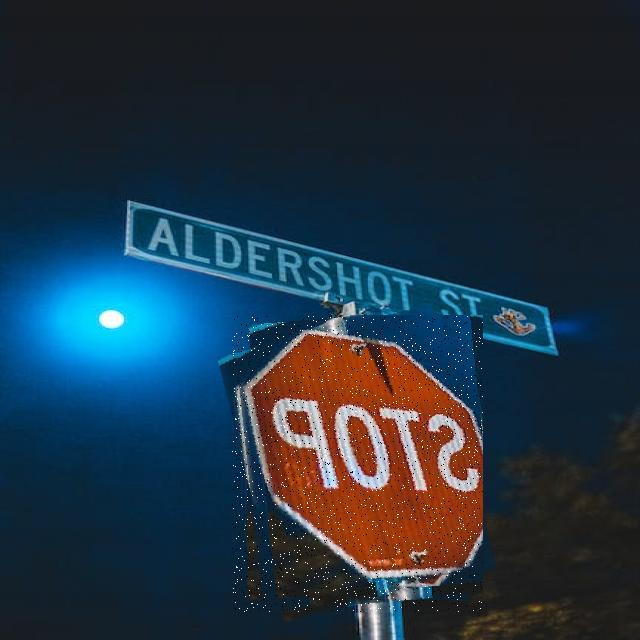stop: (232, 315, 483, 612)
